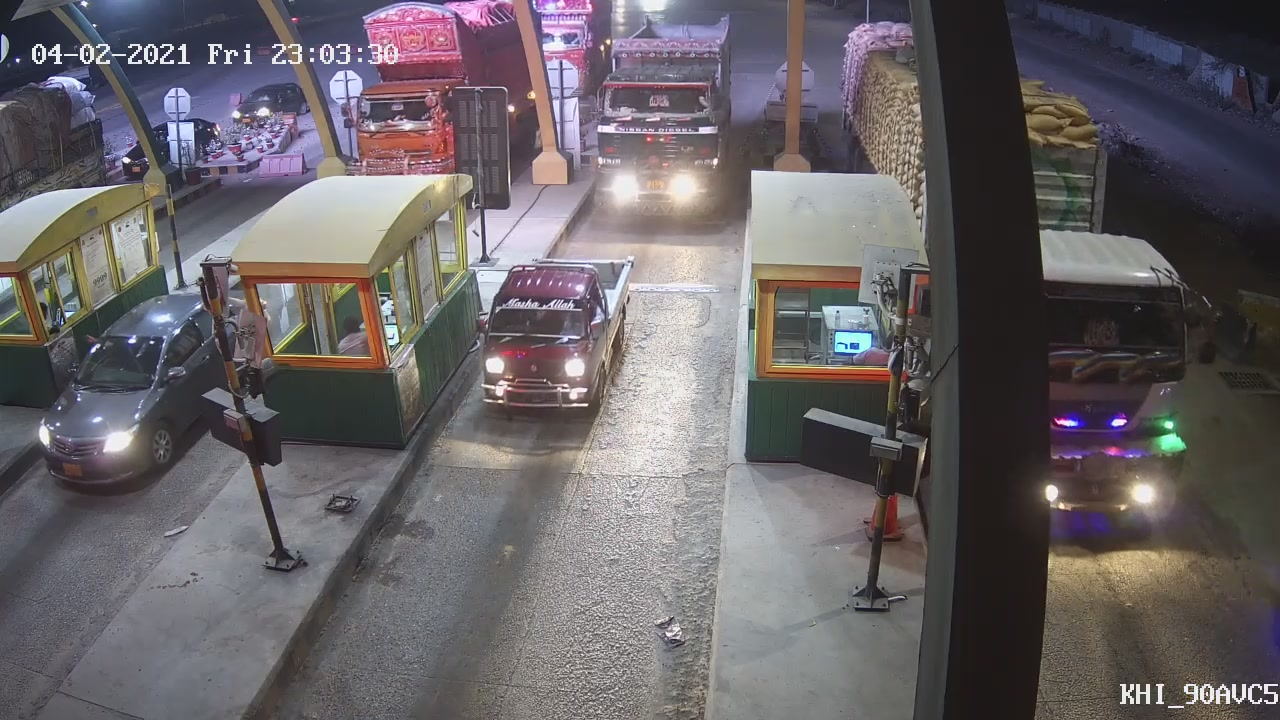F1: (480, 245, 638, 423)
F5: (580, 15, 746, 225)
